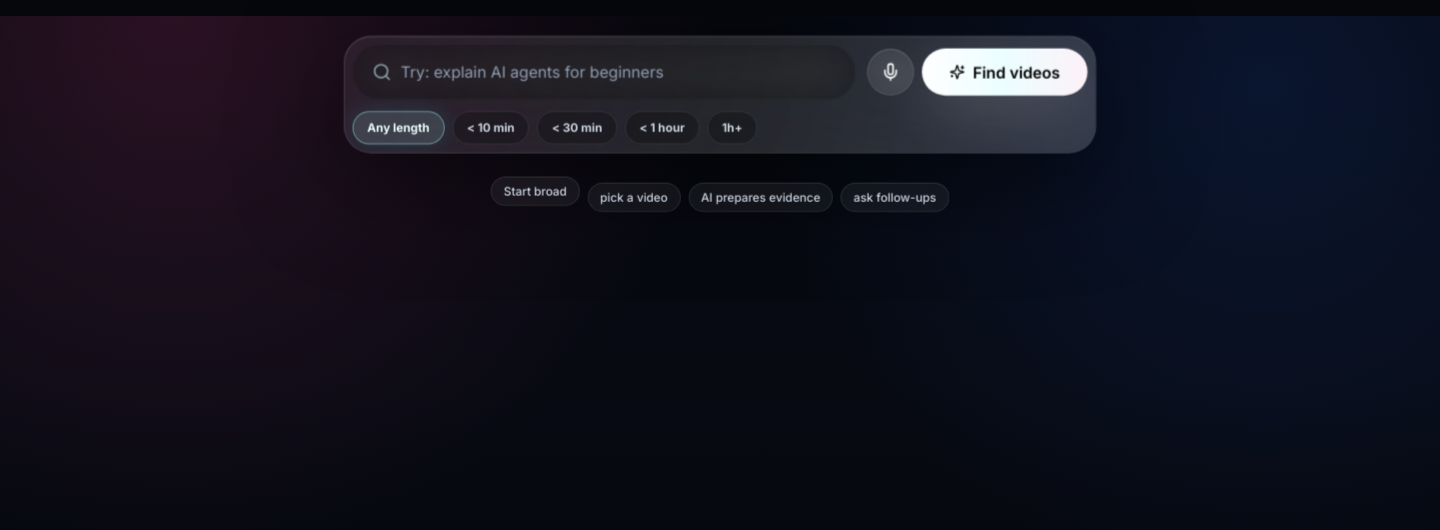
it: SearchConsole – voice input › Web Speech API › shows permission blocked error for not-allowed
This screenshot has width=1440, height=530.
Click the button named "start voice search".
click(890, 72)  # box [867,48,914,95]
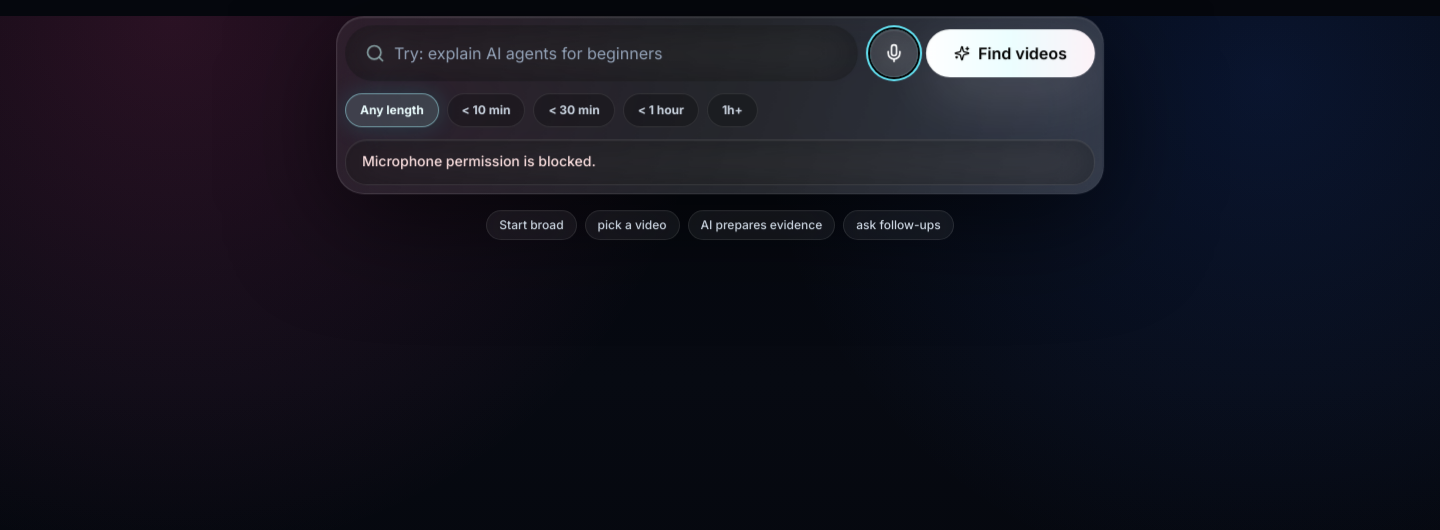
Expected: the text "Microphone permission is blocked." is shown, [362,153,596,170]
